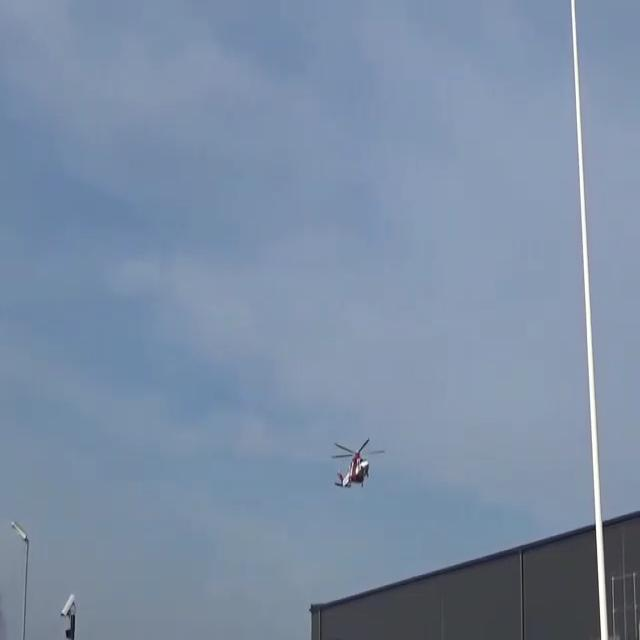Helicopter: (325, 435, 384, 492)
